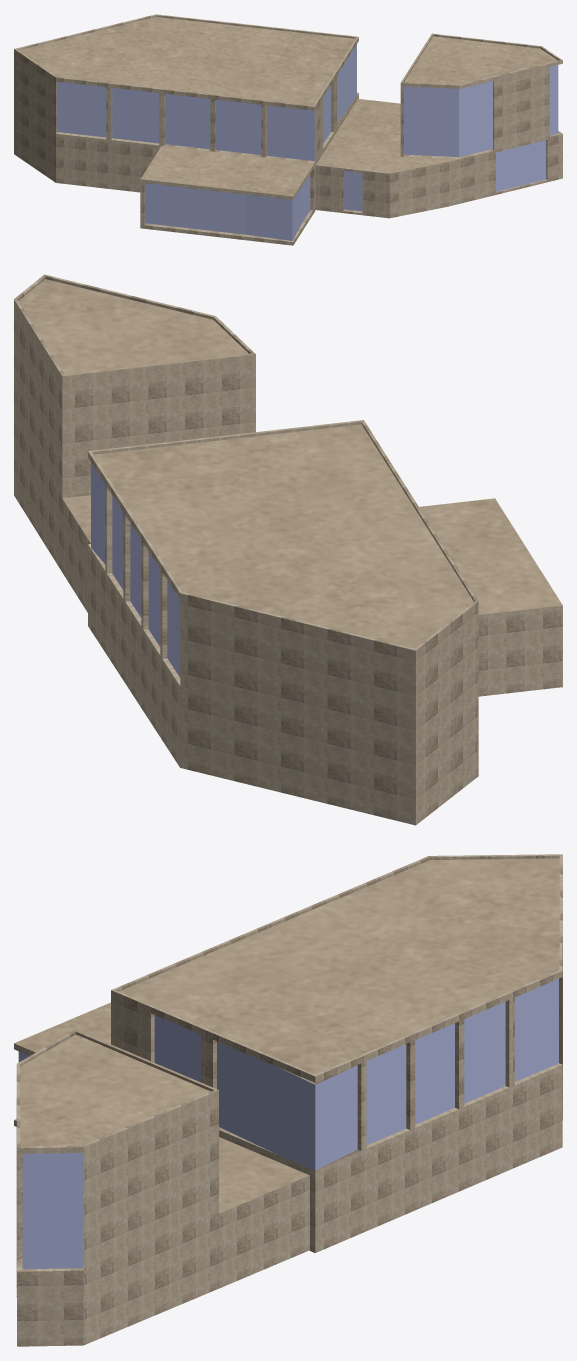
3 views of the same model, one above another, from view 1: azimuth 30°, elevation 25°; view 2: azimuth 150°, elevation 25°; view 3: azimuth 270°, elevation 25° (orthographic). The views are drawn at different scales.
Visible parts, largest first — view 1: Cube.009; view 2: Cube.009; view 3: Cube.009.
Boxes of the visible parts, bbox=[...] form: Cube.009: bbox=[14, 14, 562, 245]; Cube.009: bbox=[14, 274, 562, 825]; Cube.009: bbox=[14, 854, 562, 1346].
Size of the model in its own units: 50.06 by 14.69 by 36.7.
Materials: 3 (2 with a texture image).
